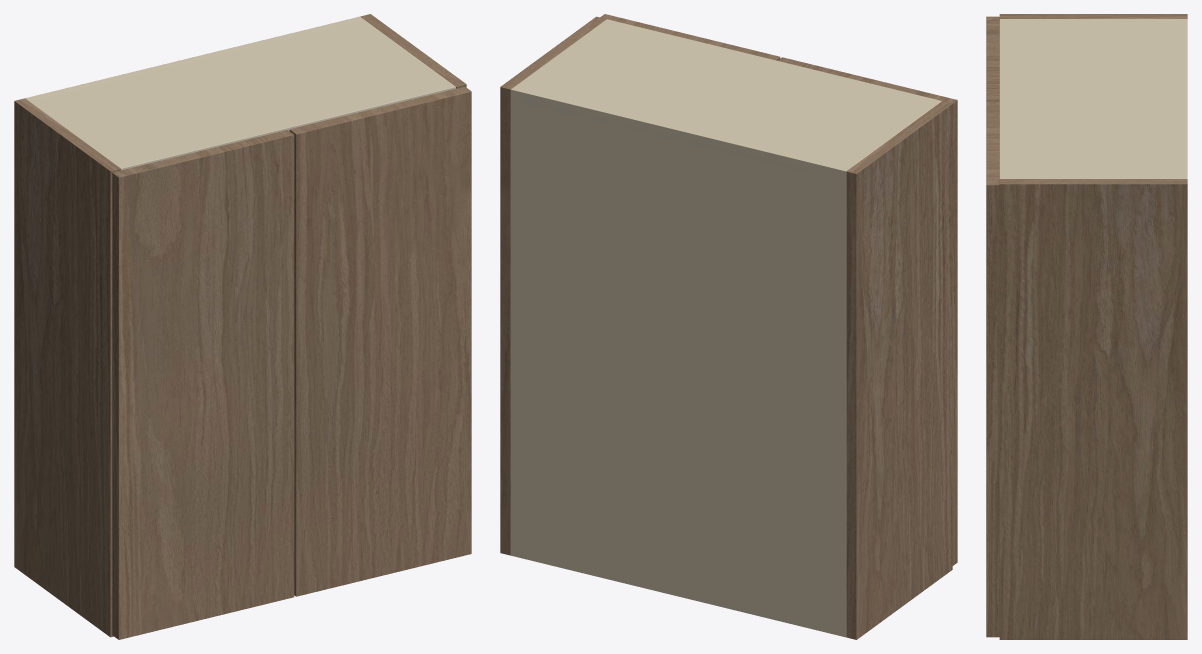
The model's file is oppein-ply-mnw-w2430.glb.
3 renders of one model, left to right at view 1: azimuth 30°, elevation 25°; view 2: azimuth 150°, elevation 25°; view 3: azimuth 270°, elevation 25°, orthographic. The views are drawn at different scales.
Parts seen in each view (by area): view 1: Door, Door.001, Cabinet side, Cabinet top, Cabinet back, Cabinet side.001; view 2: Cabinet back, Cabinet side, Cabinet top, Cabinet side.001, Door, Cabinet bottom, Door.001; view 3: Cabinet side.001, Cabinet top, Door.001, Cabinet back, Door, Cabinet side.
Boxes of the visible parts, x1,y1,x2,y2 form: Door: [112, 130, 294, 639]; Door.001: [289, 86, 471, 596]; Cabinet side: [14, 98, 120, 637]; Cabinet top: [25, 19, 455, 170]; Cabinet back: [25, 16, 363, 100]; Cabinet side.001: [360, 14, 466, 88]; Cabinet back: [511, 86, 849, 636]; Cabinet side: [846, 101, 952, 639]; Cabinet top: [511, 19, 941, 180]; Cabinet side.001: [500, 16, 606, 555]; Door: [777, 57, 957, 565]; Cabinet bottom: [511, 545, 846, 637]; Door.001: [600, 14, 780, 60]; Cabinet side.001: [999, 179, 1187, 639]; Cabinet top: [999, 19, 1187, 178]; Door.001: [986, 101, 999, 637]; Cabinet back: [1180, 19, 1187, 178]; Door: [986, 16, 999, 101]; Cabinet side: [999, 14, 1187, 18].
Bounding box in the file's own units: 0.6096 × 0.762 × 0.3048.
2 materials, 1 textured.
